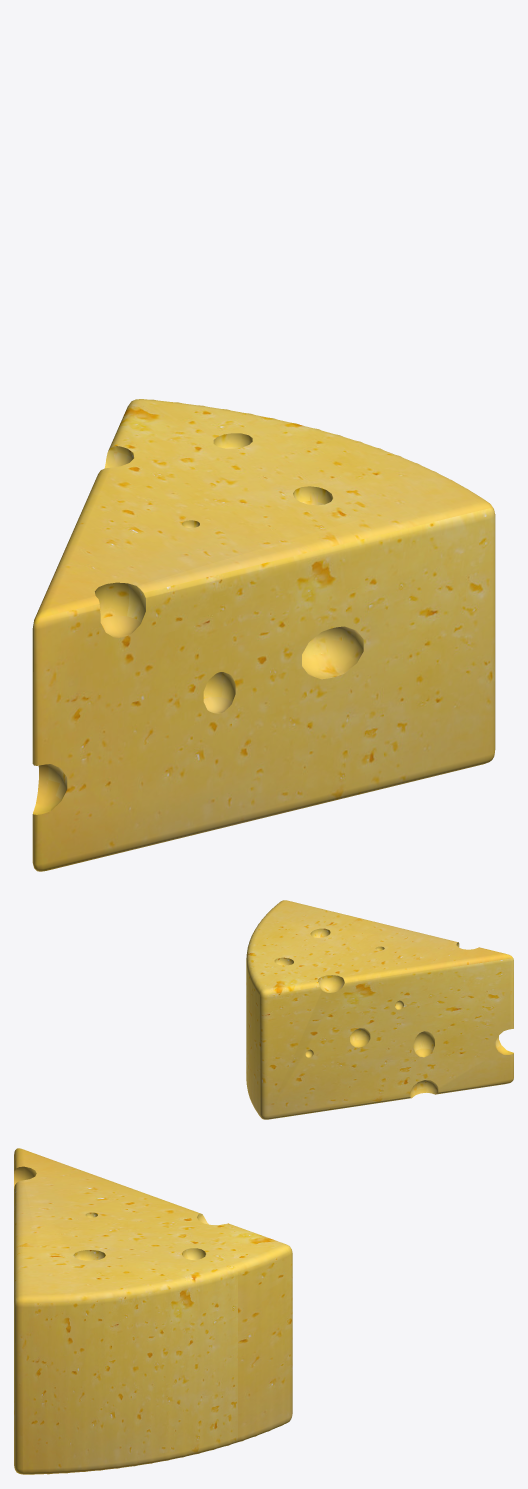
Rendered from Cheese.fbx.
The picture shows the model from 3 angles, top to bottom: view 1: azimuth 30°, elevation 25°; view 2: azimuth 150°, elevation 25°; view 3: azimuth 270°, elevation 25°; orthographic projection. The views are drawn at different scales.
Visible parts, largest first — view 1: Cylinder001; view 2: Cylinder001; view 3: Cylinder001.
Part boxes in pixels (bbox=[...]): Cylinder001: bbox=[32, 399, 495, 871]; Cylinder001: bbox=[246, 900, 513, 1119]; Cylinder001: bbox=[14, 1148, 292, 1474].
Bounding box in the file's own units: 8.9 × 5.91 × 8.86.
1 material, 1 textured.
